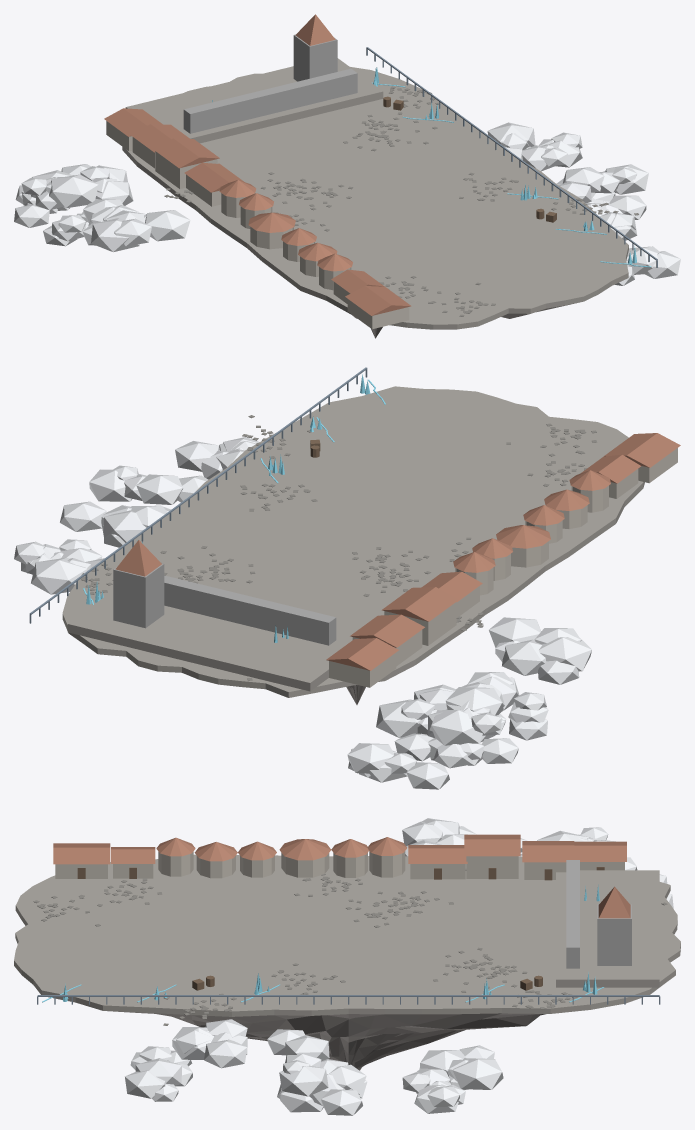
Rendered from corrode.glb.
The picture shows the model from 3 angles, top to bottom: view 1: azimuth 30°, elevation 25°; view 2: azimuth 150°, elevation 25°; view 3: azimuth 270°, elevation 25°; orthographic projection. The views are drawn at different scales.
Parts seen in each view (by area): view 1: Static, Cloud_10, Cloud_00, Cloud_07, Cloud_01, Cloud_06, Cloud_13, Cloud_11, Cloud_03, Cloud_04, Cloud_08; view 2: Static, Cloud_10, Cloud_08, Cloud_07, Cloud_02, Cloud_05, Cloud_04, Cloud_00, Cloud_06, Cloud_13, Cloud_01, Cloud_03 (+1 smaller); view 3: Static, Cloud_07, Cloud_13, Cloud_11, Cloud_03, Cloud_05, Cloud_01, Cloud_10, Cloud_09, Cloud_00.
Part boxes in pixels (x1,y1,x2,y2): Static: [104, 14, 657, 338]; Cloud_10: [83, 210, 190, 252]; Cloud_00: [21, 166, 133, 210]; Cloud_07: [559, 164, 648, 202]; Cloud_01: [522, 132, 582, 171]; Cloud_06: [52, 199, 139, 241]; Cloud_13: [585, 195, 646, 240]; Cloud_11: [615, 246, 680, 285]; Cloud_03: [487, 122, 535, 160]; Cloud_04: [14, 191, 70, 227]; Cloud_08: [31, 165, 127, 197]; Static: [29, 367, 680, 704]; Cloud_10: [489, 617, 591, 684]; Cloud_08: [376, 689, 482, 745]; Cloud_07: [89, 465, 208, 504]; Cloud_02: [347, 743, 449, 789]; Cloud_05: [60, 501, 167, 547]; Cloud_04: [394, 733, 518, 768]; Cloud_00: [401, 684, 504, 735]; Cloud_06: [456, 672, 548, 722]; Cloud_13: [175, 437, 259, 479]; Cloud_01: [14, 539, 102, 574]; Cloud_03: [31, 557, 104, 594]; Static: [14, 834, 680, 1070]; Cloud_07: [267, 1029, 329, 1096]; Cloud_13: [172, 1019, 247, 1068]; Cloud_11: [125, 1046, 192, 1101]; Cloud_03: [419, 1045, 503, 1089]; Cloud_05: [309, 1059, 367, 1115]; Cloud_01: [402, 1068, 465, 1113]; Cloud_10: [402, 818, 476, 856]; Cloud_09: [277, 1084, 323, 1112]; Cloud_00: [537, 827, 608, 841].
Size of the model in its own units: 36.16 by 14.95 by 38.61.
